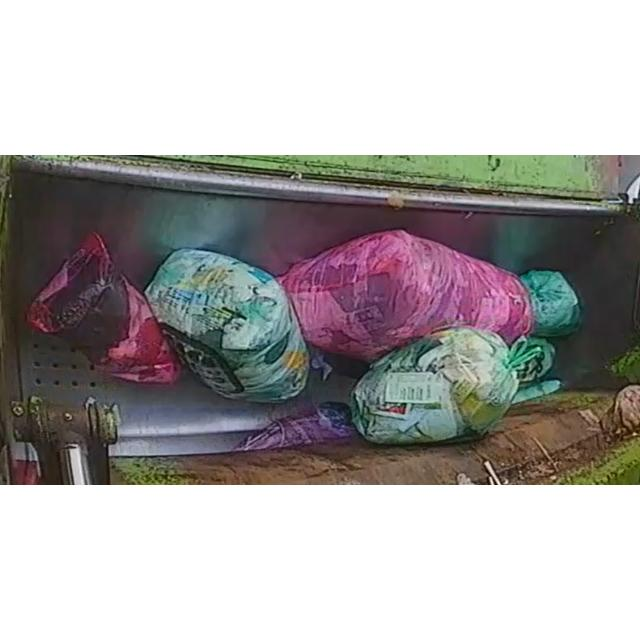general_trashbag: (145, 249, 309, 402), (351, 329, 554, 445), (520, 270, 580, 336)
other_trashbag: (278, 230, 544, 361), (28, 232, 180, 384)
